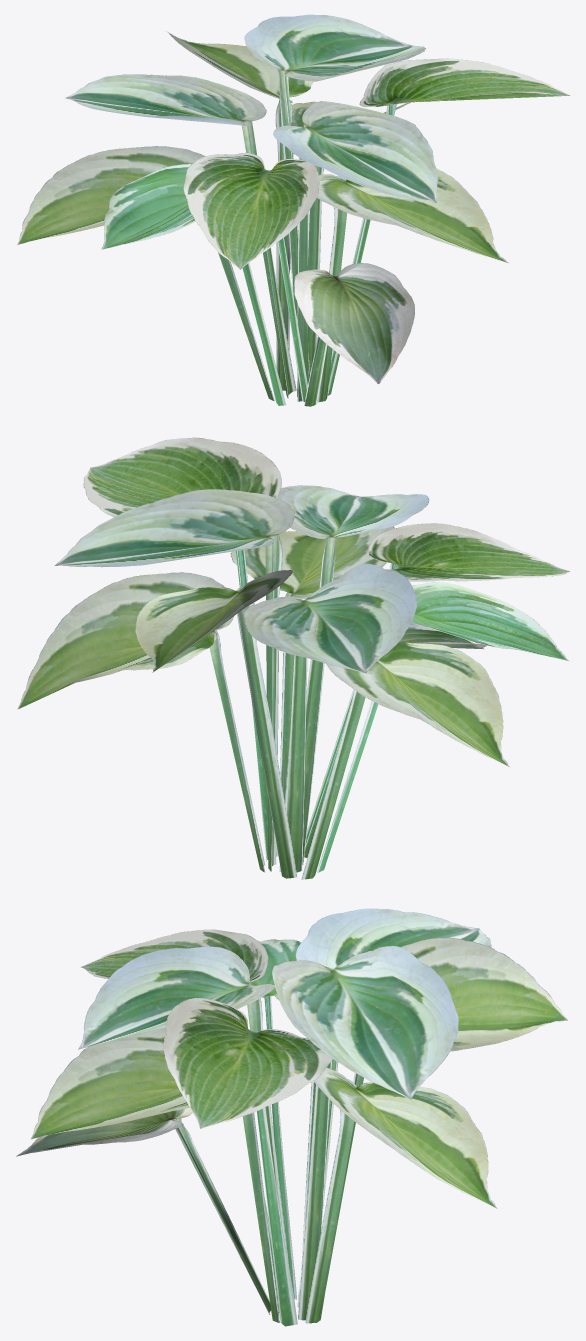
The model's file is plant_small_wg_00G2.fbx.
3 views of the same model, one above another, from view 1: azimuth 30°, elevation 25°; view 2: azimuth 150°, elevation 25°; view 3: azimuth 270°, elevation 25° (orthographic). The views are drawn at different scales.
Parts seen in each view (by area): view 1: plant_small_wg_00G2; view 2: plant_small_wg_00G2; view 3: plant_small_wg_00G2.
Boxes of the visible parts, x1,y1,x2,y2 form: plant_small_wg_00G2: (17,14,570,406); plant_small_wg_00G2: (17,437,570,879); plant_small_wg_00G2: (16,908,567,1326).
Bounding box in the file's own units: 65.27 × 44.15 × 60.67.
1 material, 1 textured.
